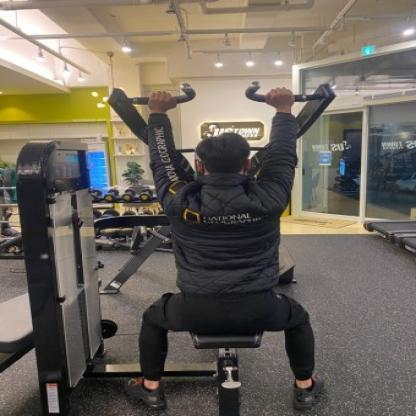shoulder press machine: (3, 74, 370, 416)
